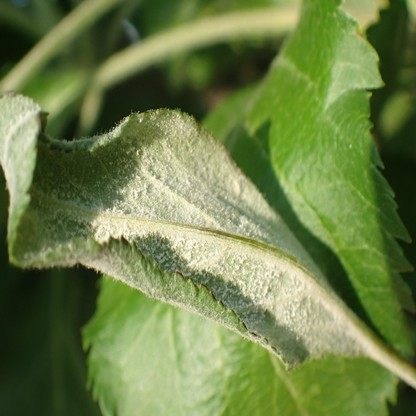powder: (0, 92, 376, 365)
